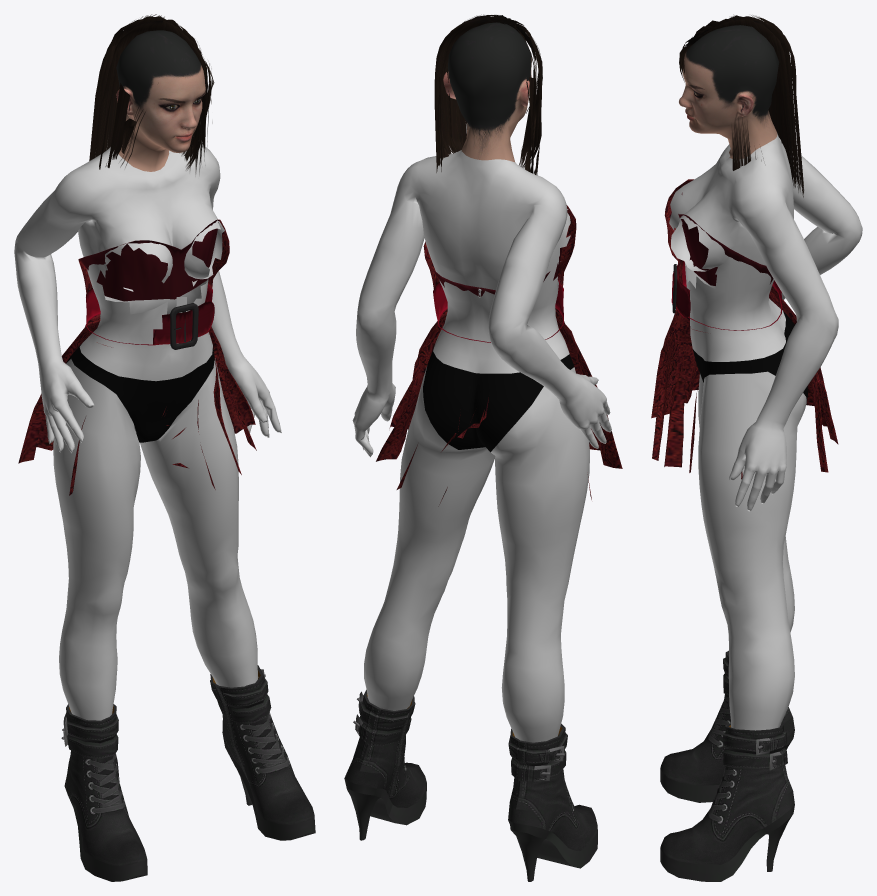
3 renders of one model, left to right at view 1: azimuth 30°, elevation 25°; view 2: azimuth 150°, elevation 25°; view 3: azimuth 270°, elevation 25°, orthographic. The views are drawn at different scales.
Size of the model in its own units: 0.5562 by 1.78 by 0.4235.
